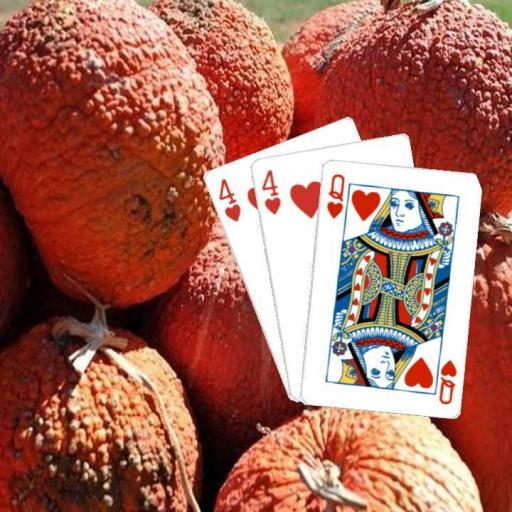card-corner: (429, 349, 458, 405), (215, 175, 242, 223), (258, 166, 282, 216), (322, 170, 346, 220)
